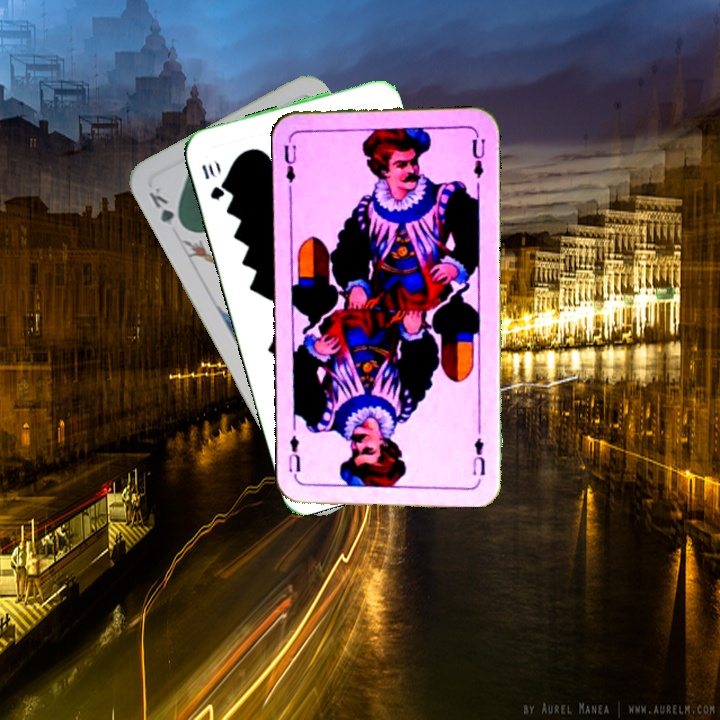EU: (280, 134, 299, 193), (469, 433, 488, 478)
G10: (197, 160, 227, 203)
GK: (144, 183, 187, 233)
